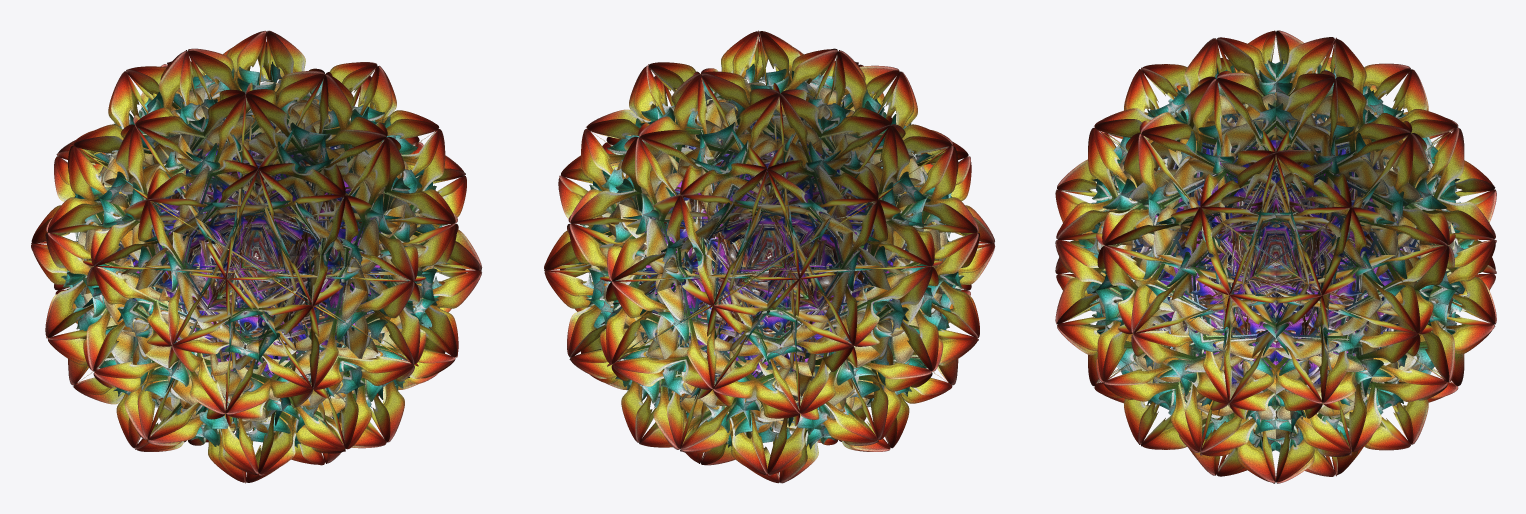
Rendered from GreatDirhombicosidodecahedron12.gltf.
3 renders of one model, left to right at view 1: azimuth 30°, elevation 25°; view 2: azimuth 150°, elevation 25°; view 3: azimuth 270°, elevation 25°, orthographic. The views are drawn at different scales.
Visible parts, largest first — view 1: GreatDirhombicosidodecahedron12; view 2: GreatDirhombicosidodecahedron12; view 3: GreatDirhombicosidodecahedron12.
Boxes of the visible parts, box(x1,y1,x2,y2) form: GreatDirhombicosidodecahedron12: box(31, 30, 482, 483); GreatDirhombicosidodecahedron12: box(544, 30, 995, 483); GreatDirhombicosidodecahedron12: box(1055, 30, 1496, 483).
Size of the model in its own units: 1.34 by 1.34 by 1.34.
Materials: 1 (1 with a texture image).
